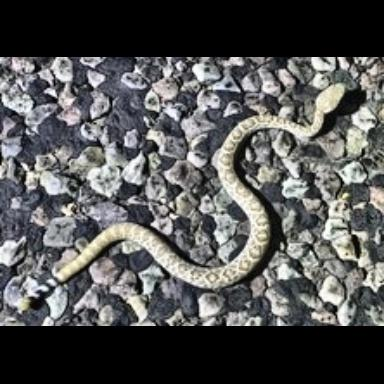snake: (52, 83, 365, 291)
